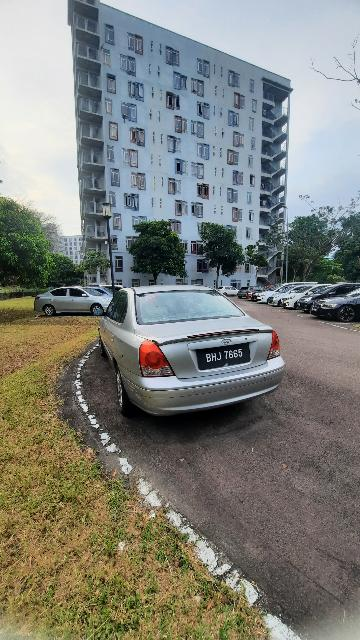License_Plate: (195, 344, 254, 372)
car: (93, 283, 286, 420)
